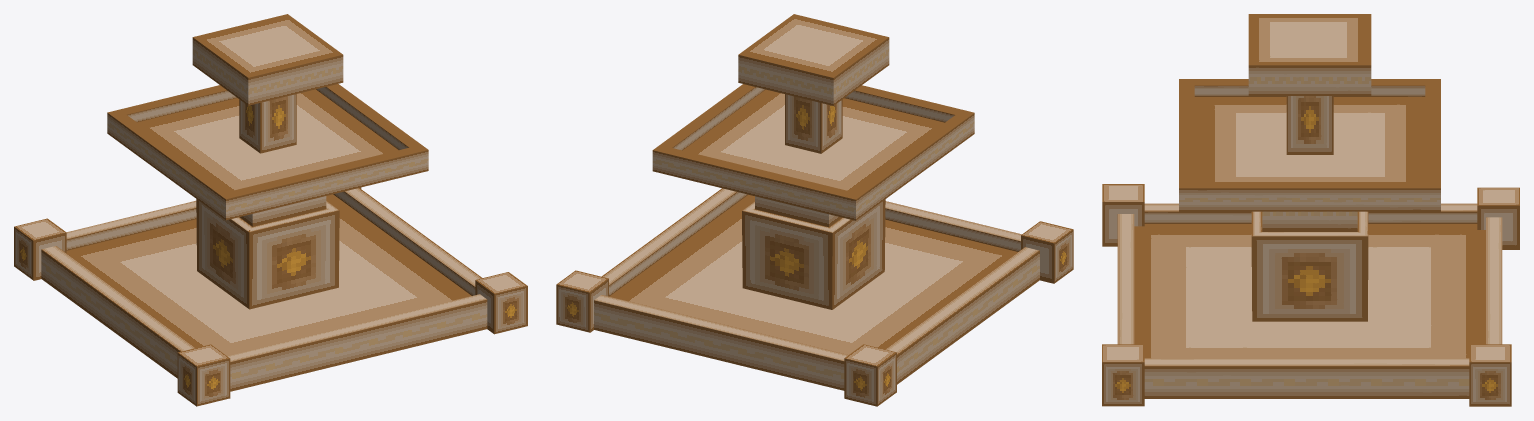
File: BGN_STYLISH WATER FOUNTAIN.fbx
The picture shows the model from 3 angles, left to right: view 1: azimuth 30°, elevation 25°; view 2: azimuth 150°, elevation 25°; view 3: azimuth 270°, elevation 25°; orthographic projection. The views are drawn at different scales.
Visible parts, largest first — view 1: BGN_STYLISH WATER FOUNTAIN; view 2: BGN_STYLISH WATER FOUNTAIN; view 3: BGN_STYLISH WATER FOUNTAIN.
Part boxes in pixels (left/top/right/bottom): BGN_STYLISH WATER FOUNTAIN: left=14, top=14, right=527, bottom=406; BGN_STYLISH WATER FOUNTAIN: left=556, top=14, right=1073, bottom=406; BGN_STYLISH WATER FOUNTAIN: left=1102, top=14, right=1519, bottom=406.
Size of the model in its own units: 583 by 424 by 578.
Materials: 1 (1 with a texture image).
